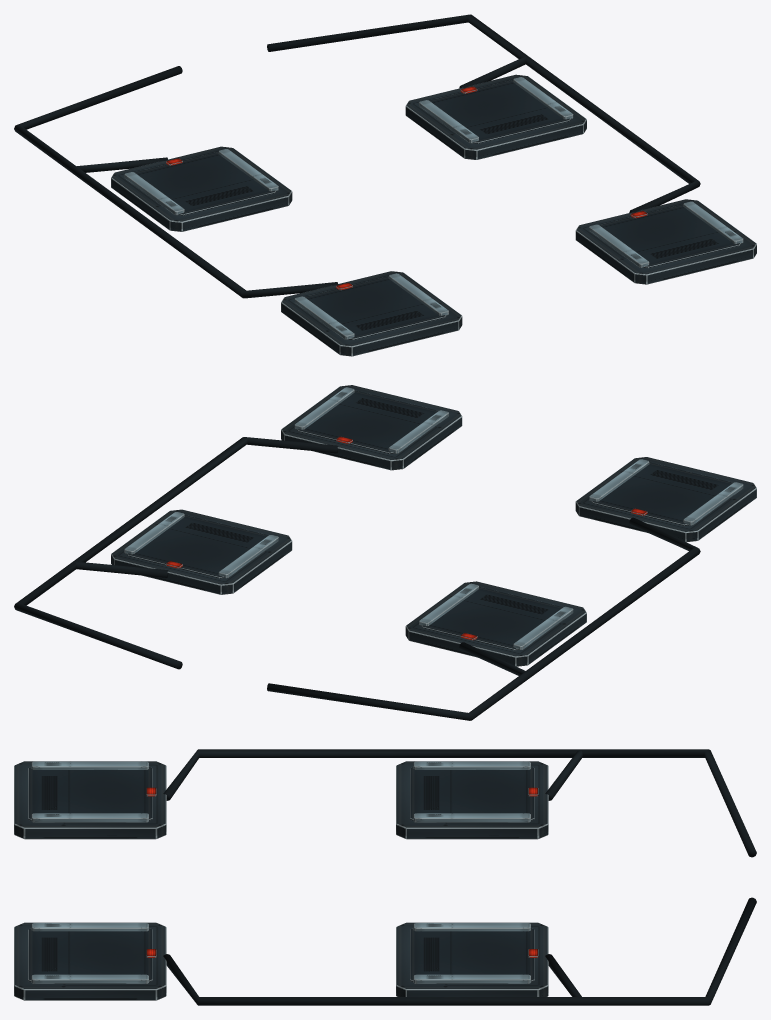
Rendered from V46_DockApron.fbx.
The picture shows the model from 3 angles, top to bottom: view 1: azimuth 30°, elevation 25°; view 2: azimuth 150°, elevation 25°; view 3: azimuth 270°, elevation 25°; orthographic projection. The views are drawn at different scales.
Parts seen in each view (by area): view 1: V46_DockApron; view 2: V46_DockApron; view 3: V46_DockApron.
Part boxes in pixels (bbox=[...]): V46_DockApron: bbox=[14, 14, 756, 356]; V46_DockApron: bbox=[14, 385, 756, 720]; V46_DockApron: bbox=[14, 749, 756, 1005].
Bounding box in the file's own units: 4.67 × 0.14 × 5.84.
